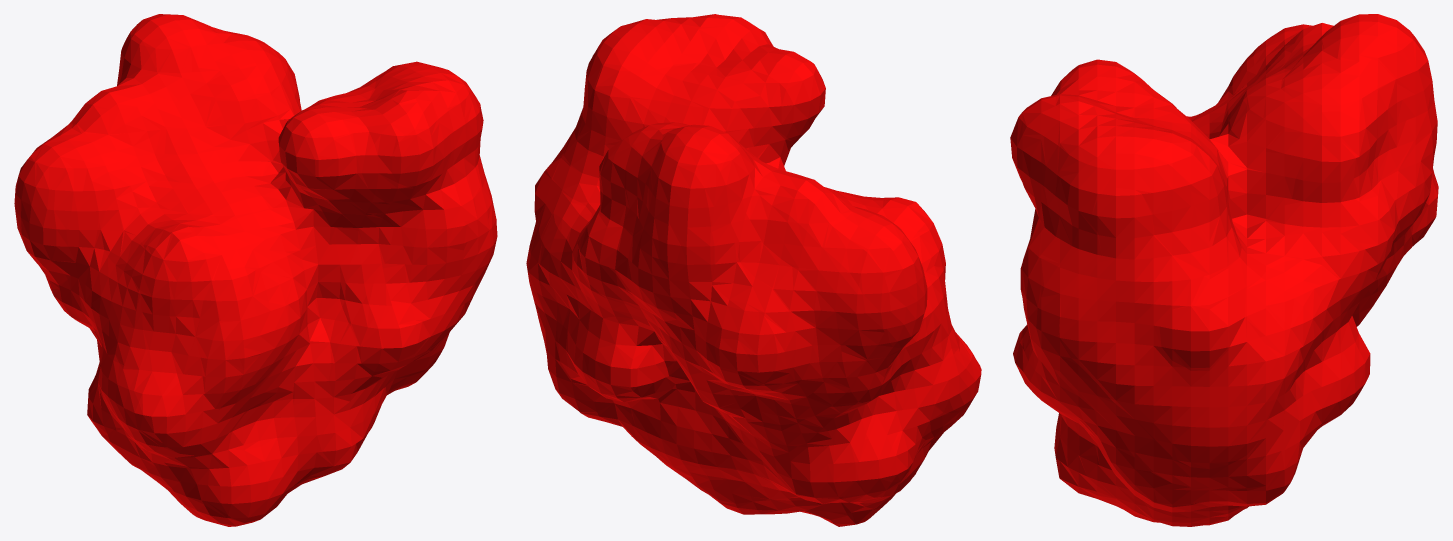
File: murB_coarse.dae
3 renders of one model, left to right at view 1: azimuth 30°, elevation 25°; view 2: azimuth 150°, elevation 25°; view 3: azimuth 270°, elevation 25°, orthographic. The views are drawn at different scales.
Visible parts, largest first — view 1: murB; view 2: murB; view 3: murB.
Part boxes in pixels (<box>): murB: <box>14,14,497,526</box>; murB: <box>526,14,981,526</box>; murB: <box>1010,14,1438,526</box>.
Bounding box in the file's own units: 59.14 × 60.13 × 46.52.
